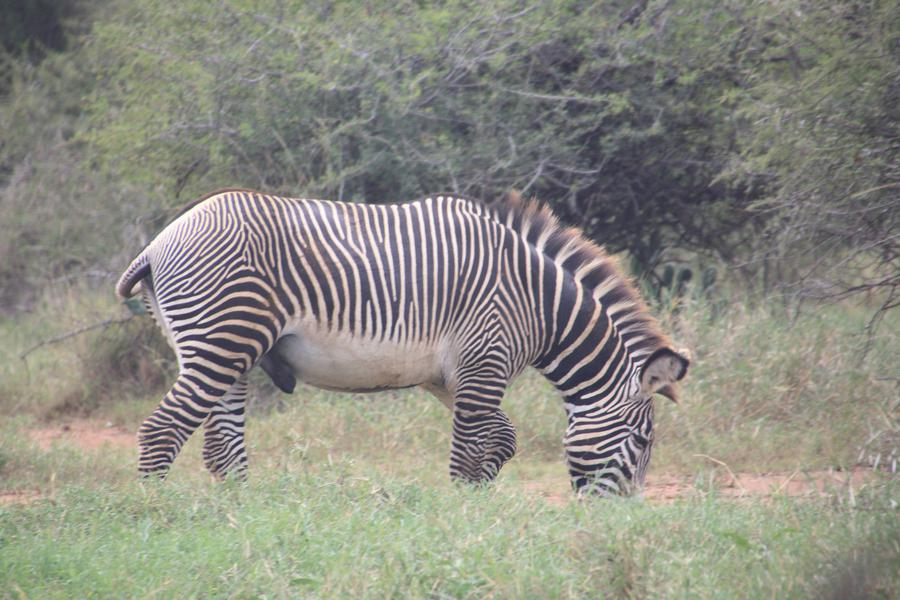zebra_grevys: (126, 172, 516, 385)
